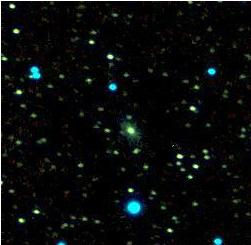star: (15, 62, 45, 92)
